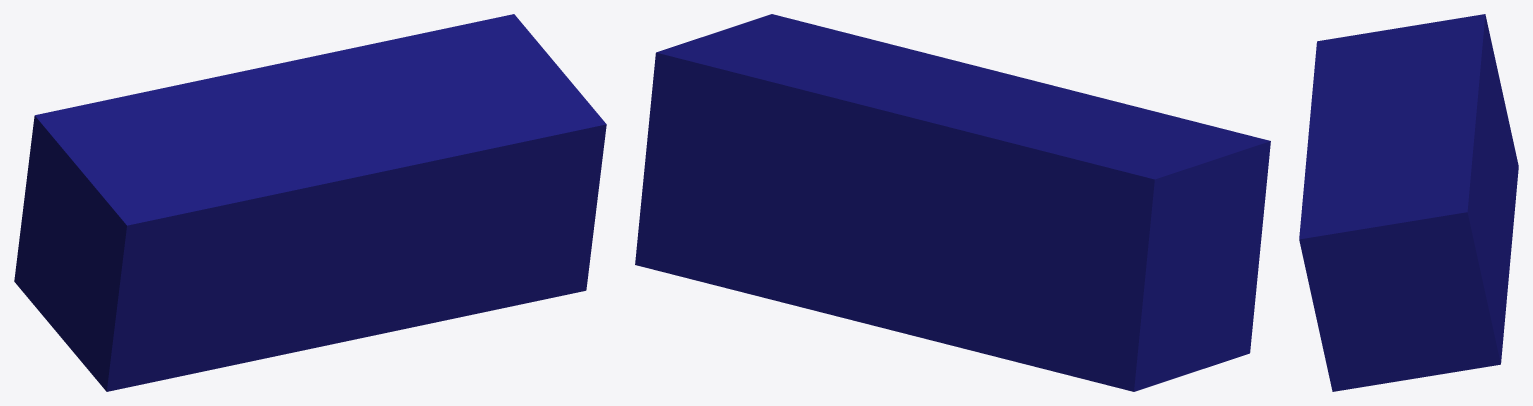
File: hyphen.fbx
3 renders of one model, left to right at view 1: azimuth 30°, elevation 25°; view 2: azimuth 150°, elevation 25°; view 3: azimuth 270°, elevation 25°, orthographic. The views are drawn at different scales.
Visible parts, largest first — view 1: mesh_-; view 2: mesh_-; view 3: mesh_-.
Part boxes in pixels (x1,y1,x2,y2): mesh_-: [14, 14, 606, 391]; mesh_-: [635, 14, 1270, 391]; mesh_-: [1299, 14, 1518, 391].
Size of the model in its own units: 29.8 by 13.25 by 14.06.
